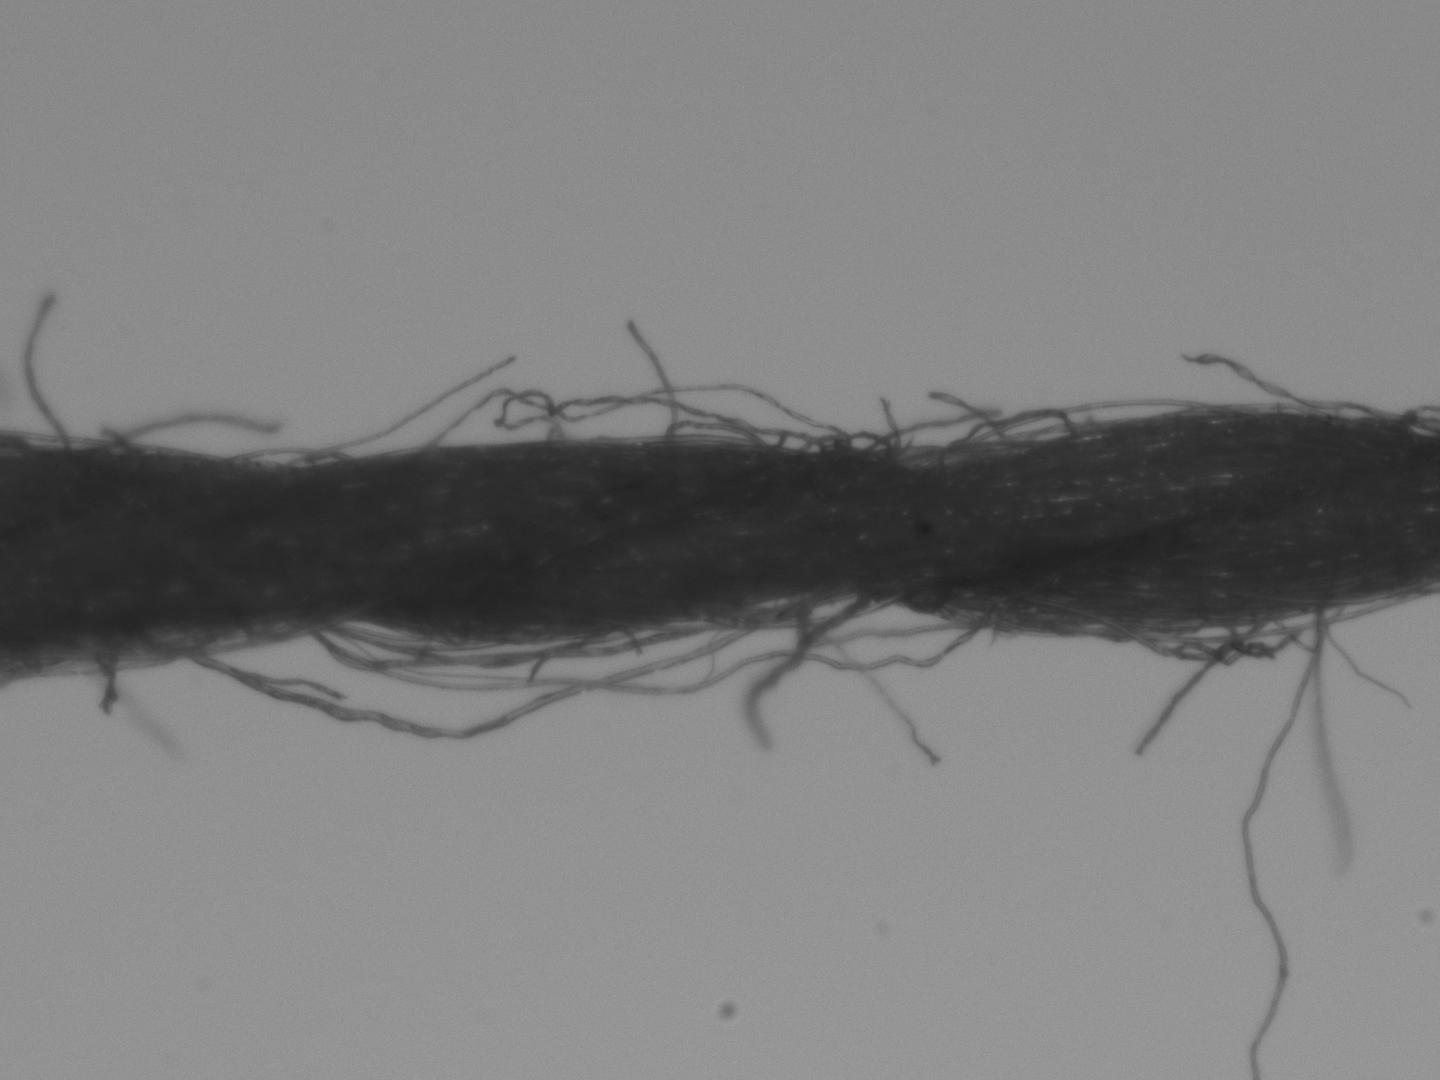loop_fiber: (300, 621, 644, 673), (1113, 589, 1415, 646), (947, 402, 1077, 455), (694, 590, 855, 627), (1238, 395, 1396, 428), (662, 415, 760, 445), (230, 442, 353, 464), (822, 428, 896, 457)
protruding_fiber: (1239, 613, 1331, 1079), (1132, 619, 1268, 760), (749, 597, 870, 751), (25, 294, 65, 450), (632, 321, 677, 437)
